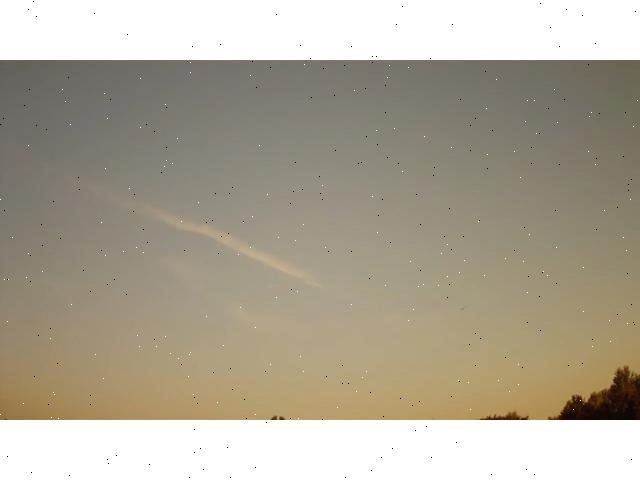Anti-Drone: (453, 303, 471, 317)
